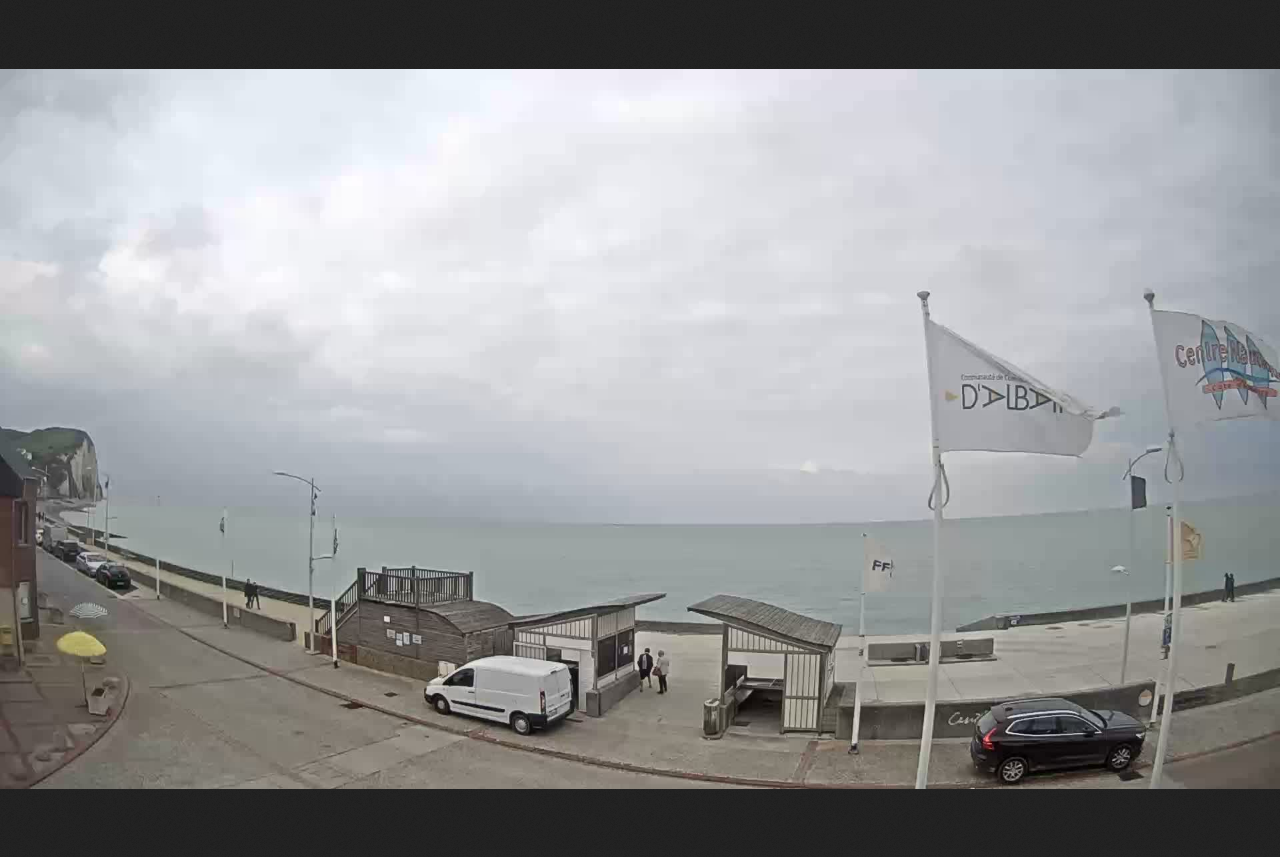maybe: (920, 302, 1112, 470), (1141, 292, 1280, 441)
